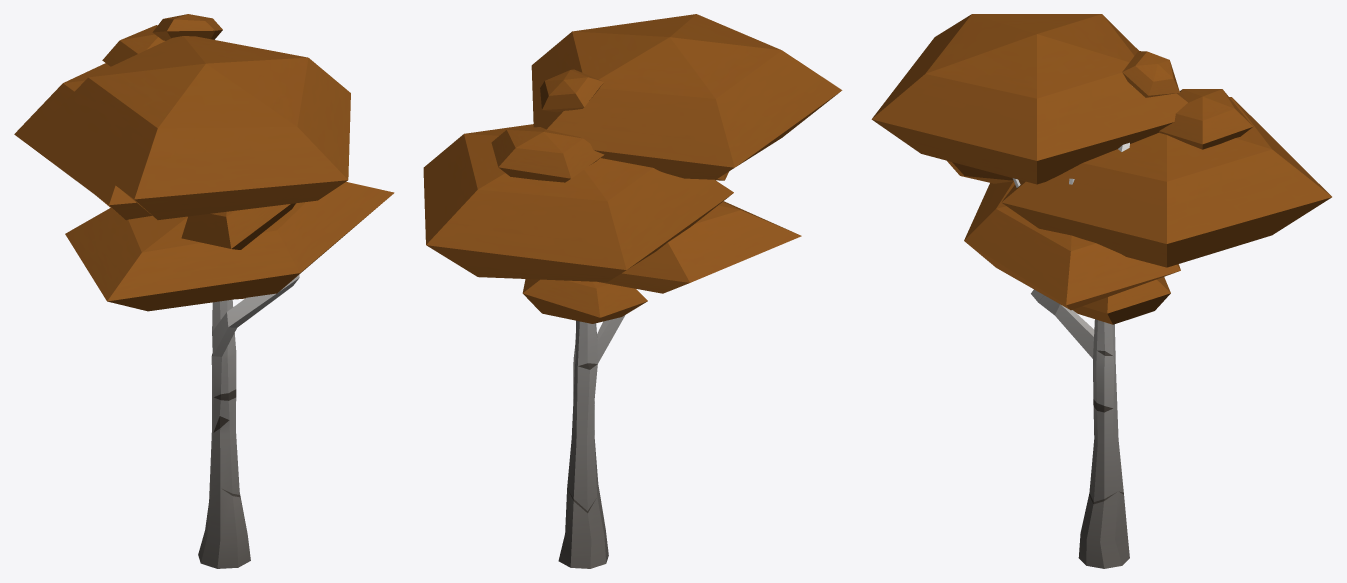
Rendered from arbol6.fbx.
3 renders of one model, left to right at view 1: azimuth 30°, elevation 25°; view 2: azimuth 150°, elevation 25°; view 3: azimuth 270°, elevation 25°, orthographic. The views are drawn at different scales.
Parts seen in each view (by area): view 1: arbol6; view 2: arbol6; view 3: arbol6.
Part boxes in pixels (bbox=[...]): arbol6: bbox=[14, 14, 394, 568]; arbol6: bbox=[423, 14, 842, 568]; arbol6: bbox=[871, 14, 1331, 568].
Size of the model in its own units: 1526 by 2353 by 1969.
